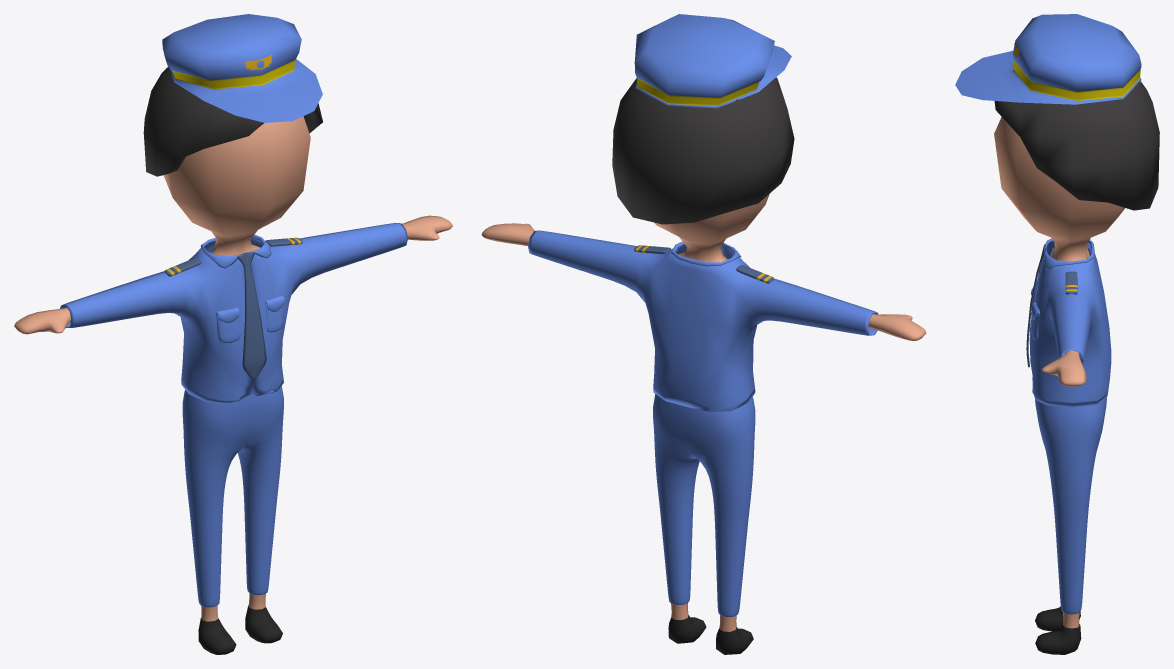
The model's file is body_pilot2.fbx.
3 renders of one model, left to right at view 1: azimuth 30°, elevation 25°; view 2: azimuth 150°, elevation 25°; view 3: azimuth 270°, elevation 25°, orthographic.
Parts seen in each view (by area): view 1: shirt_pilot2, pant_pilot2, body_pilot2, hat_pilot2, hair_pilot2, shoe_pilot2, shirt_pilot2.001; view 2: shirt_pilot2, hair_pilot2, pant_pilot2, hat_pilot2, body_pilot2, shoe_pilot2; view 3: hair_pilot2, hat_pilot2, shirt_pilot2, body_pilot2, pant_pilot2, shoe_pilot2, shirt_pilot2.001.
Boxes of the visible parts, x1,y1,x2,y2 form: shirt_pilot2: (60,223,407,403); pant_pilot2: (182,386,283,607); body_pilot2: (14,116,452,621); hat_pilot2: (162,14,322,122); hair_pilot2: (143,67,322,176); shoe_pilot2: (198,605,282,654); shirt_pilot2.001: (237,252,266,379); shirt_pilot2: (528,230,878,411); hair_pilot2: (612,77,794,224); pant_pilot2: (653,394,755,617); hat_pilot2: (634,14,791,108); body_pilot2: (481,193,926,631); shoe_pilot2: (668,615,753,654); hair_pilot2: (994,81,1159,210); hat_pilot2: (955,14,1141,104); shirt_pilot2: (1029,238,1111,407); body_pilot2: (994,117,1124,628); pant_pilot2: (1035,397,1106,614); shoe_pilot2: (1035,606,1081,654); shirt_pilot2.001: (1026,244,1045,367).
Bounding box in the file's own units: 156 × 212 × 64.41.
